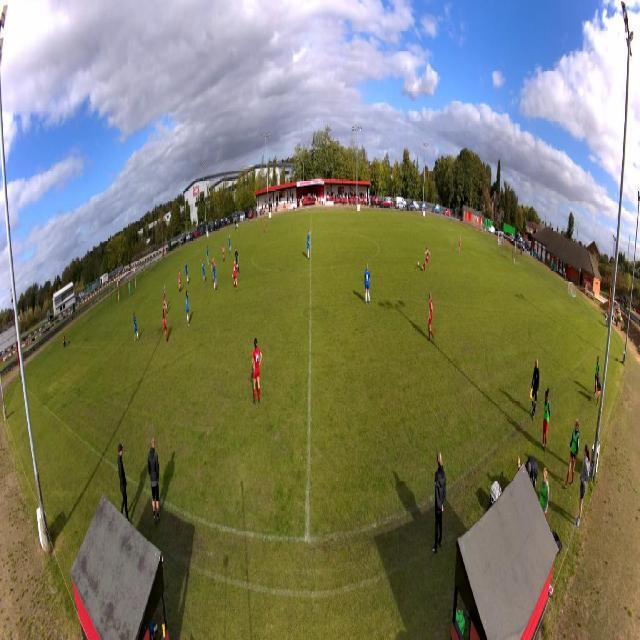ball: (417, 260, 419, 267)
player: (251, 337, 263, 406), (427, 294, 435, 345), (422, 245, 431, 273), (365, 265, 371, 305), (185, 290, 191, 328), (162, 307, 168, 343), (232, 258, 238, 292), (133, 313, 139, 343), (234, 247, 240, 273), (163, 290, 169, 316), (184, 261, 190, 286), (213, 261, 218, 290), (164, 285, 169, 311), (202, 259, 206, 285), (178, 270, 182, 294), (307, 228, 310, 259), (222, 242, 226, 263), (211, 257, 214, 284), (228, 235, 232, 254), (129, 280, 132, 299), (264, 218, 267, 235), (459, 235, 461, 255), (207, 246, 209, 265)
